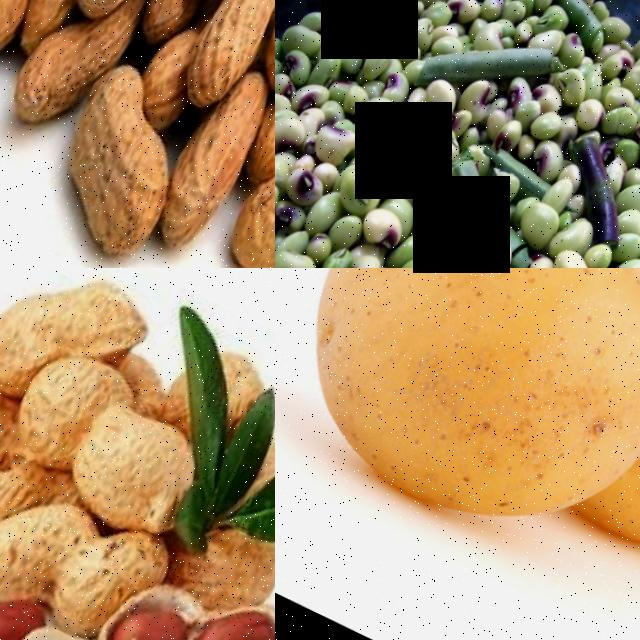peanuts: (0, 477, 157, 640), (50, 106, 204, 263), (58, 393, 215, 544), (156, 63, 275, 253), (2, 339, 135, 477), (0, 268, 169, 373), (1, 9, 120, 143), (179, 0, 275, 113), (112, 584, 208, 640), (191, 588, 275, 640), (0, 0, 63, 60), (3, 610, 110, 640), (0, 591, 41, 640)
potato: (275, 268, 640, 582)
